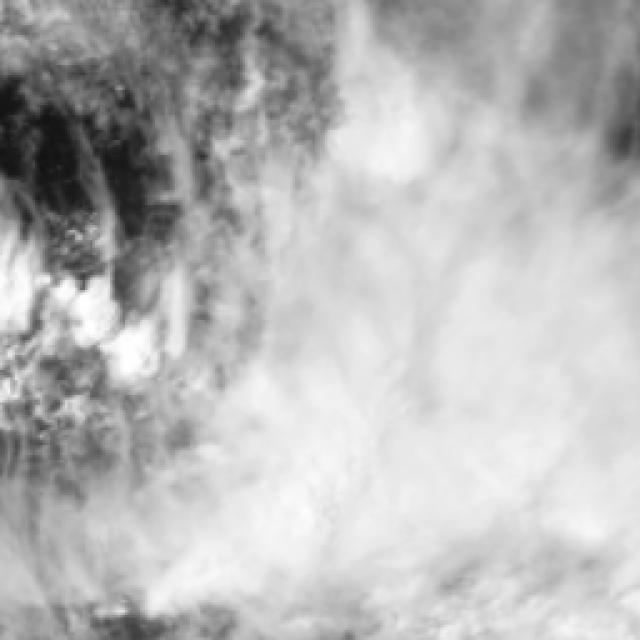CB: (280, 190, 632, 640)
